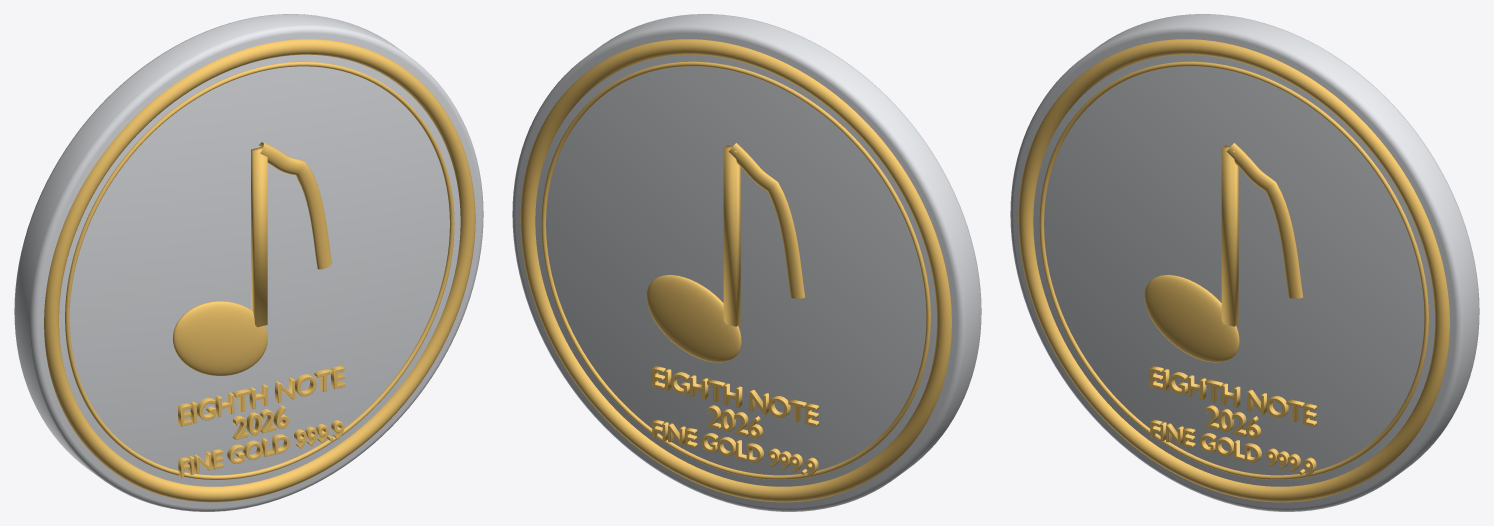
Rendered from SilverCoin.glb.
3 views of the same model, side by side, from view 1: azimuth 30°, elevation 25°; view 2: azimuth 150°, elevation 25°; view 3: azimuth 330°, elevation 25° (orthographic).
Parts seen in each view (by area): view 1: Coin_Body.001, Rim_Front.001, Note_Front.001, RimInner_Front.001, TxtEighth_F.001, TxtFine_F.001, Txt2026_F.001; view 2: Coin_Body.001, Rim_Back.001, Note_Back.001, RimInner_Back.001, TxtEighth_B.001, TxtFine_B.001, Txt2026_B.001; view 3: Coin_Body.001, Rim_Front.001, Note_Front.001, RimInner_Front.001, TxtEighth_F.001, TxtFine_F.001, Txt2026_F.001.
Part boxes in pixels (left/top/right/bottom): Coin_Body.001: left=14, top=14, right=483, bottom=511; Rim_Front.001: left=44, top=39, right=475, bottom=502; Note_Front.001: left=173, top=142, right=331, bottom=375; RimInner_Front.001: left=65, top=61, right=454, bottom=479; TxtEighth_F.001: left=178, top=365, right=344, bottom=426; TxtFine_F.001: left=178, top=420, right=344, bottom=477; Txt2026_F.001: left=232, top=405, right=288, bottom=439; Coin_Body.001: left=512, top=14, right=981, bottom=511; Rim_Back.001: left=520, top=39, right=951, bottom=502; Note_Back.001: left=646, top=143, right=805, bottom=362; RimInner_Back.001: left=541, top=61, right=930, bottom=479; TxtEighth_B.001: left=652, top=366, right=818, bottom=426; TxtFine_B.001: left=652, top=419, right=818, bottom=476; Txt2026_B.001: left=707, top=405, right=763, bottom=438; Coin_Body.001: left=1010, top=14, right=1479, bottom=511; Rim_Front.001: left=1018, top=39, right=1449, bottom=502; Note_Front.001: left=1144, top=143, right=1303, bottom=362; RimInner_Front.001: left=1039, top=61, right=1428, bottom=479; TxtEighth_F.001: left=1150, top=366, right=1316, bottom=426; TxtFine_F.001: left=1150, top=419, right=1316, bottom=476; Txt2026_F.001: left=1205, top=405, right=1261, bottom=438.
Bounding box in the file's own units: 1 × 1 × 0.1248.
